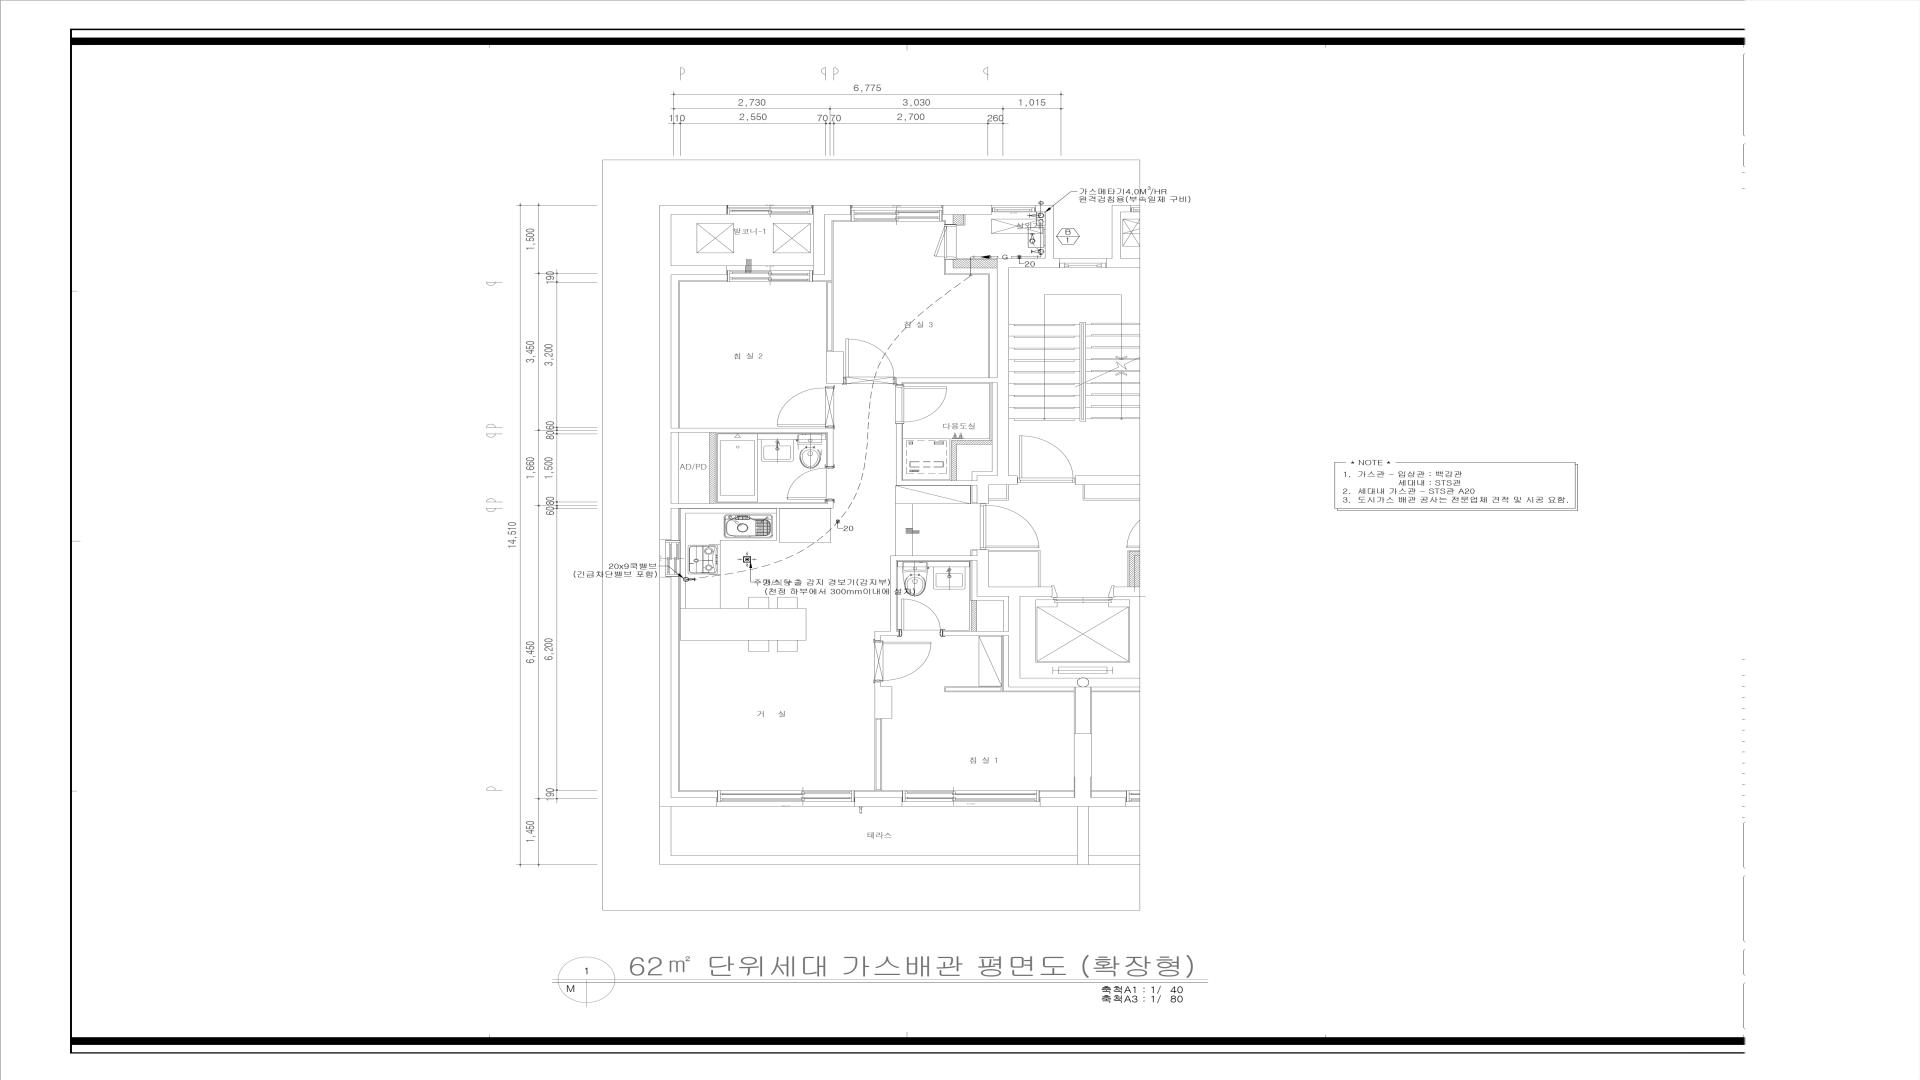door: (977, 504, 1040, 550), (1018, 435, 1075, 485), (844, 338, 897, 385), (777, 386, 835, 429), (874, 641, 931, 682), (895, 385, 948, 423), (786, 467, 833, 501), (899, 599, 943, 636), (934, 224, 956, 260)
wall: (895, 377, 1018, 504), (1009, 587, 1146, 687), (659, 576, 717, 807), (997, 204, 1059, 378), (874, 555, 977, 641), (659, 501, 833, 539), (671, 427, 833, 467), (659, 206, 727, 274), (1040, 774, 1126, 807), (659, 274, 671, 504), (814, 204, 851, 274), (1106, 204, 1141, 268), (951, 440, 992, 480), (1075, 687, 1092, 774), (977, 550, 1009, 596), (874, 682, 893, 719), (1075, 476, 1146, 485), (874, 719, 882, 791), (827, 352, 844, 384), (943, 206, 992, 215), (855, 798, 902, 807), (1129, 551, 1141, 587), (709, 433, 715, 504), (953, 260, 997, 268), (1113, 587, 1146, 596), (943, 632, 1009, 636), (972, 600, 977, 632), (953, 215, 964, 224)
window: (902, 790, 1040, 802), (717, 790, 855, 802), (851, 206, 943, 222), (727, 270, 814, 282), (727, 204, 814, 215), (666, 539, 680, 576), (1059, 262, 1106, 268), (992, 207, 1035, 212)
